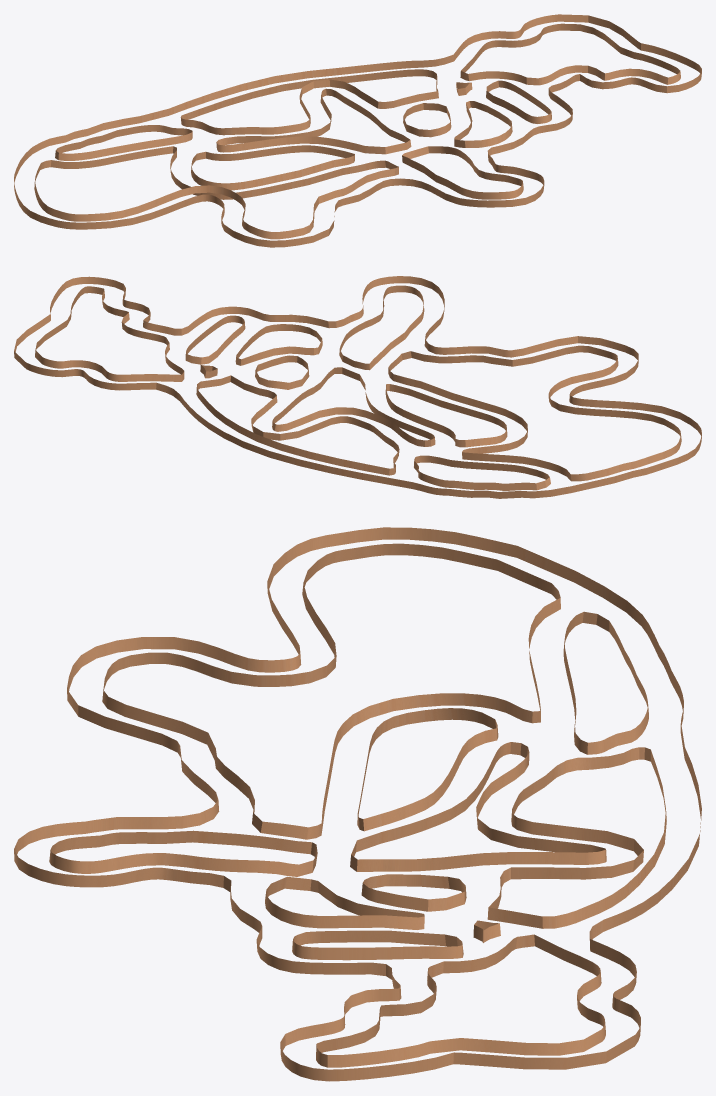
File: env_02_desert_boundry.FBX
3 views of the same model, one above another, from view 1: azimuth 30°, elevation 25°; view 2: azimuth 150°, elevation 25°; view 3: azimuth 270°, elevation 25° (orthographic). The views are drawn at different scales.
Visible parts, largest first — view 1: boundry; view 2: boundry; view 3: boundry.
Part boxes in pixels (left/top/right/bottom): boundry: left=14, top=14, right=701, bottom=247; boundry: left=14, top=276, right=701, bottom=498; boundry: left=14, top=527, right=701, bottom=1081.
Size of the model in its own units: 72752 by 3111 by 39228.
